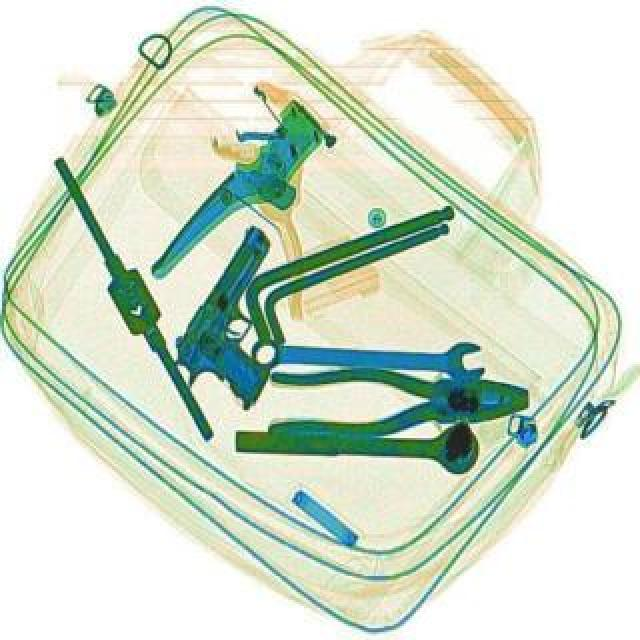gun: (152, 228, 340, 424)
scissors: (248, 336, 488, 390)
wrench: (264, 368, 528, 444)
